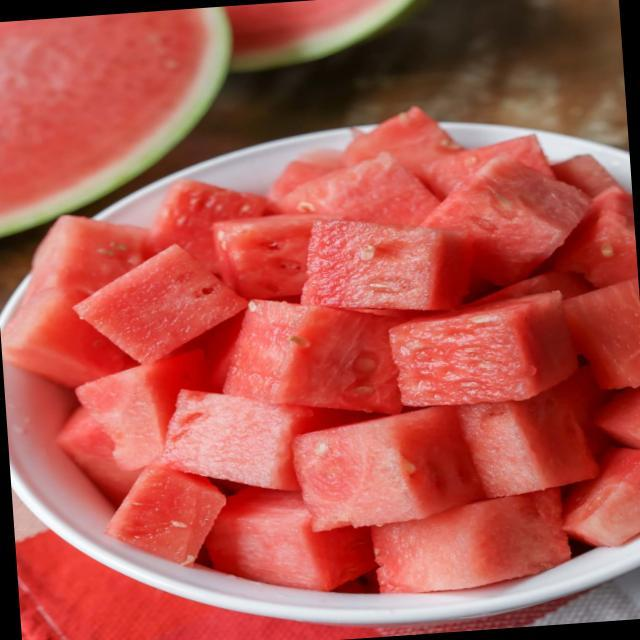WATERMELON: (0, 5, 243, 237), (234, 266, 415, 428), (398, 307, 594, 419), (74, 238, 247, 358), (164, 370, 319, 502), (298, 213, 467, 323), (299, 427, 471, 533), (217, 0, 427, 75), (92, 452, 240, 555), (293, 149, 447, 224), (0, 289, 111, 393), (81, 374, 180, 468), (32, 212, 136, 290)
